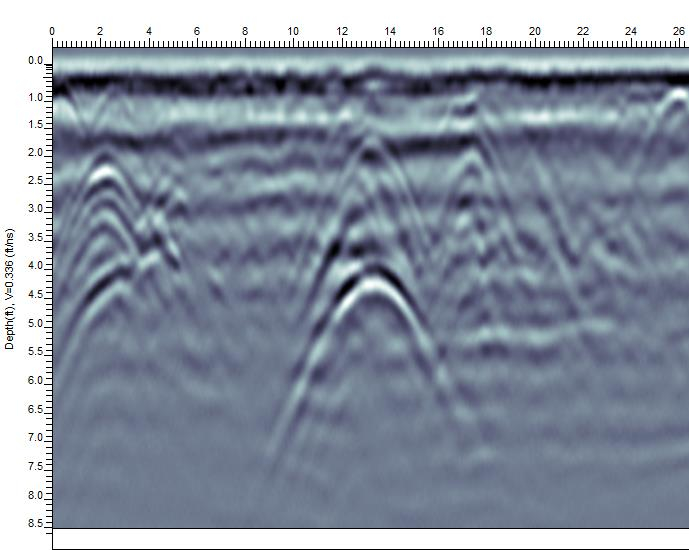hyperbola: (258, 263, 478, 453), (306, 137, 425, 253), (65, 155, 152, 277)
